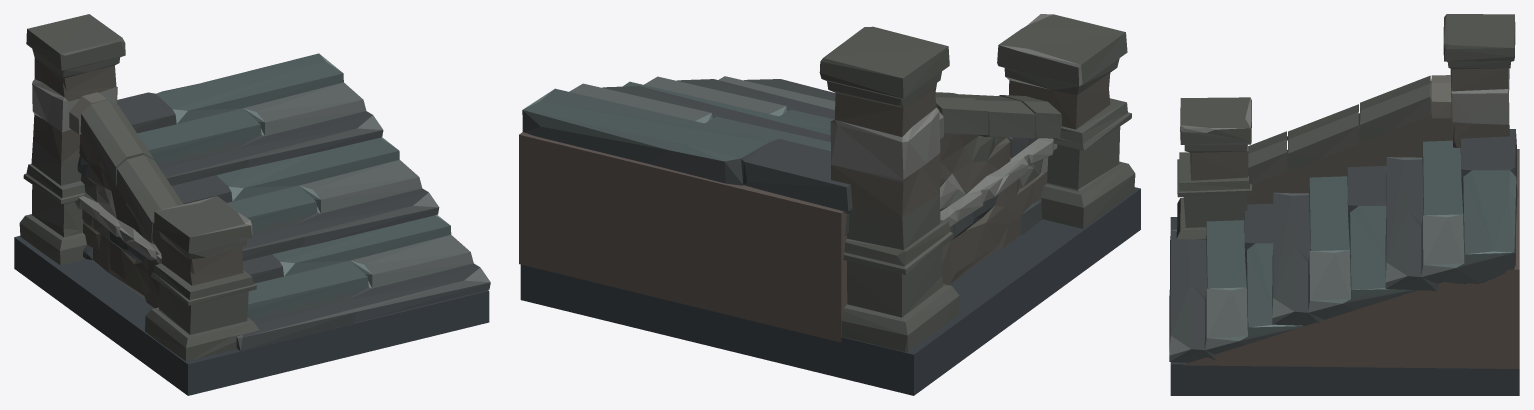
The model's file is MDungeons_StepsSide.FBX.
The picture shows the model from 3 angles, left to right: view 1: azimuth 30°, elevation 25°; view 2: azimuth 150°, elevation 25°; view 3: azimuth 270°, elevation 25°; orthographic projection. The views are drawn at different scales.
Parts seen in each view (by area): view 1: MDungeons_StepsSide_LOD0; view 2: MDungeons_StepsSide_LOD0; view 3: MDungeons_StepsSide_LOD0.
Part boxes in pixels (bbox=[...]): MDungeons_StepsSide_LOD0: bbox=[14, 14, 490, 395]; MDungeons_StepsSide_LOD0: bbox=[519, 14, 1140, 395]; MDungeons_StepsSide_LOD0: bbox=[1169, 14, 1519, 395].
Size of what is drawn, in the model's own units: 6.01 by 4.53 by 6.
